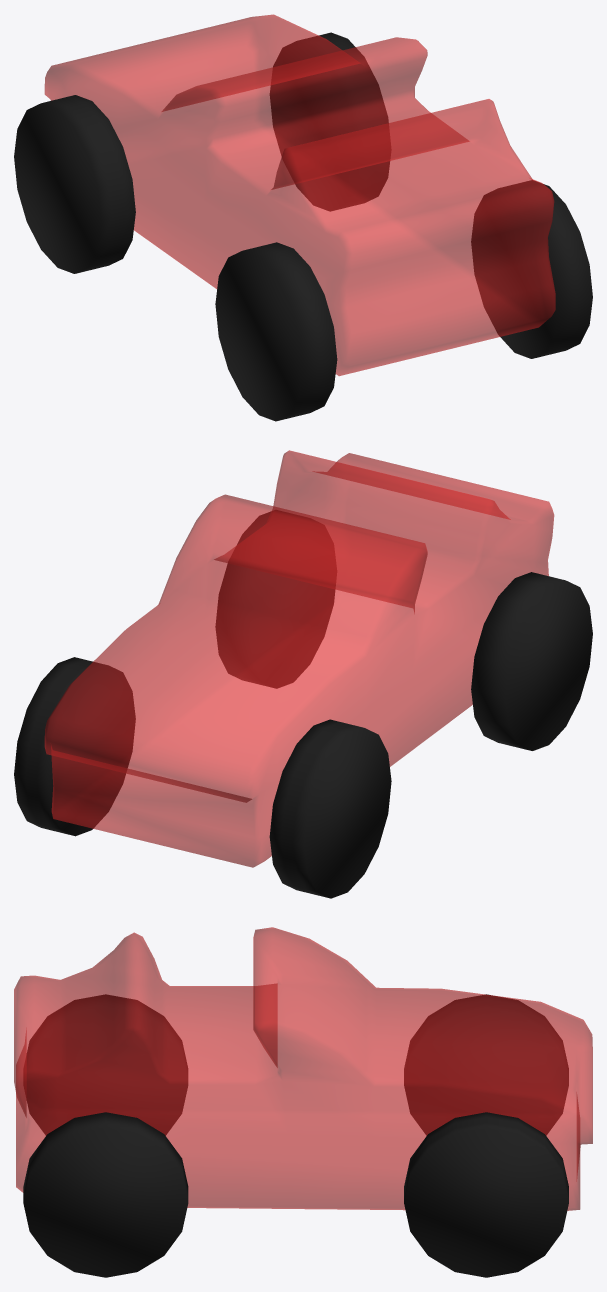
File: car.glb
3 renders of one model, top to bottom at view 1: azimuth 30°, elevation 25°; view 2: azimuth 150°, elevation 25°; view 3: azimuth 270°, elevation 25°, orthographic. The views are drawn at different scales.
Visible parts, largest first — view 1: Plane, Plane.001; view 2: Plane, Plane.001; view 3: Plane, Plane.001.
Boxes of the visible parts, x1,y1,x2,y2 form: Plane: (44, 14, 592, 421); Plane.001: (14, 32, 389, 273); Plane: (44, 450, 592, 867); Plane.001: (14, 657, 391, 898); Plane: (14, 927, 592, 1277); Plane.001: (404, 994, 568, 1277).
Size of the model in its own units: 1.79 by 1.49 by 3.28.
